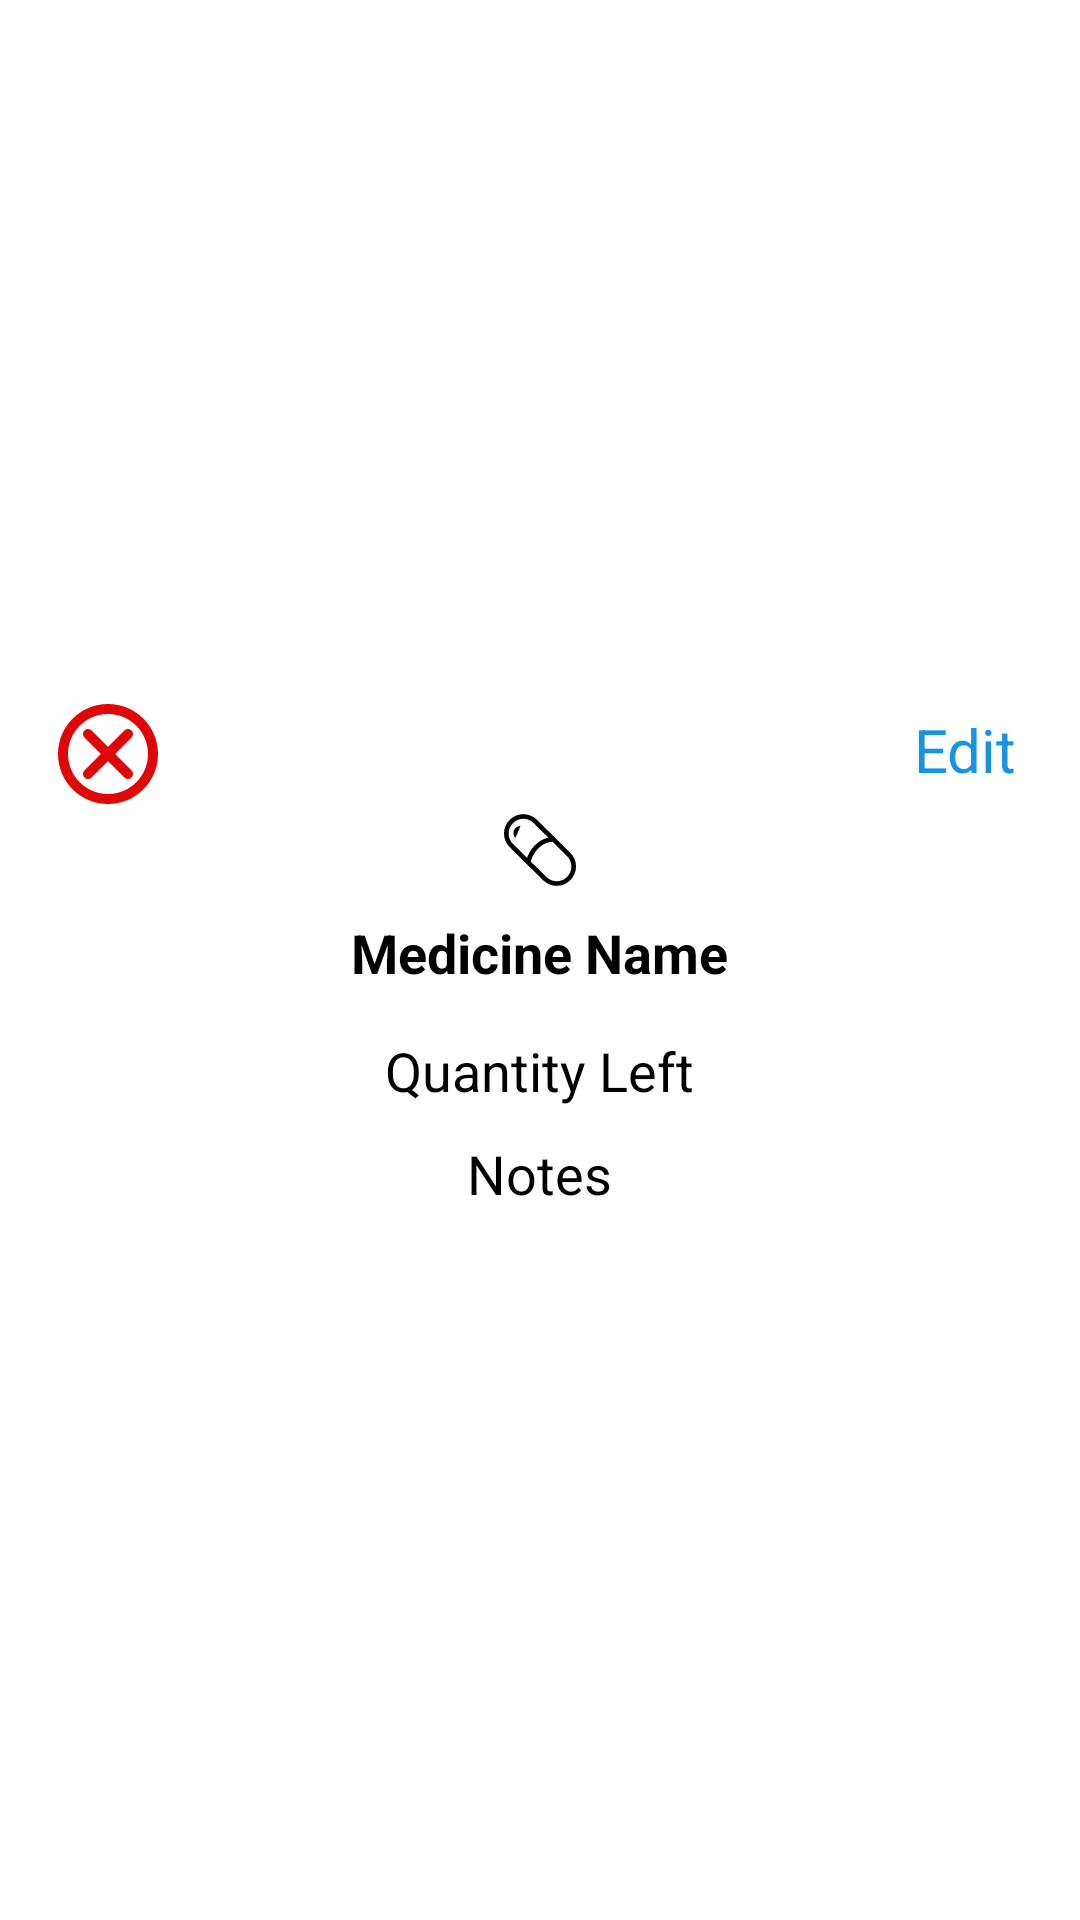

Named icons in this screenshot (1080w x 1920h) and their bounding boxes, (x1, y1, x2, y2):
medicine schedule: (504, 814, 576, 886)
remove: (58, 704, 158, 804)
